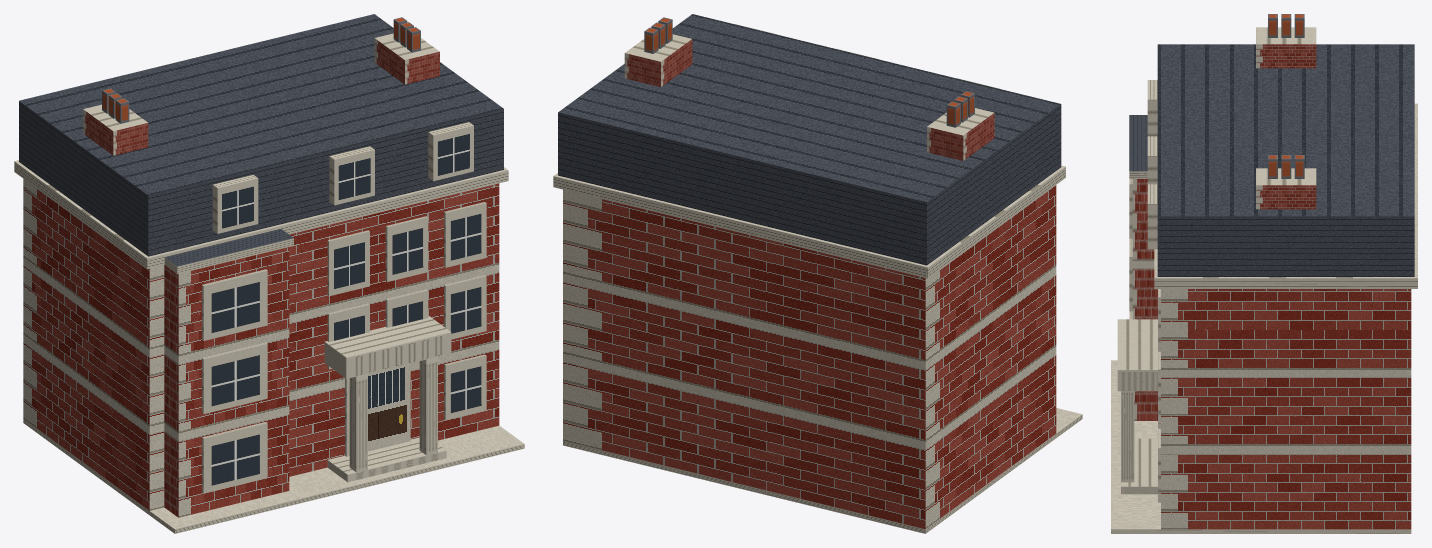
File: building_victorian_mansion.glb
3 views of the same model, side by side, from view 1: azimuth 30°, elevation 25°; view 2: azimuth 150°, elevation 25°; view 3: azimuth 270°, elevation 25° (orthographic). The views are drawn at different scales.
Parts seen in each view (by area): view 1: Building_Victorian_Mansion; view 2: Building_Victorian_Mansion; view 3: Building_Victorian_Mansion.
Boxes of the visible parts, left/top/right/bottom form: Building_Victorian_Mansion: left=14, top=14, right=524, bottom=533; Building_Victorian_Mansion: left=553, top=14, right=1082, bottom=533; Building_Victorian_Mansion: left=1111, top=14, right=1417, bottom=533.
Bounding box in the file's own units: 12.4 × 12 × 9.2.
1 material, 1 textured.
